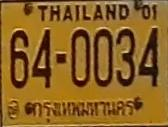0: (70, 28, 90, 86), (93, 28, 112, 86)
3: (115, 28, 135, 86)
4: (31, 29, 51, 88), (138, 27, 158, 86)
6: (9, 30, 28, 88)
BKK: (30, 94, 135, 120)
